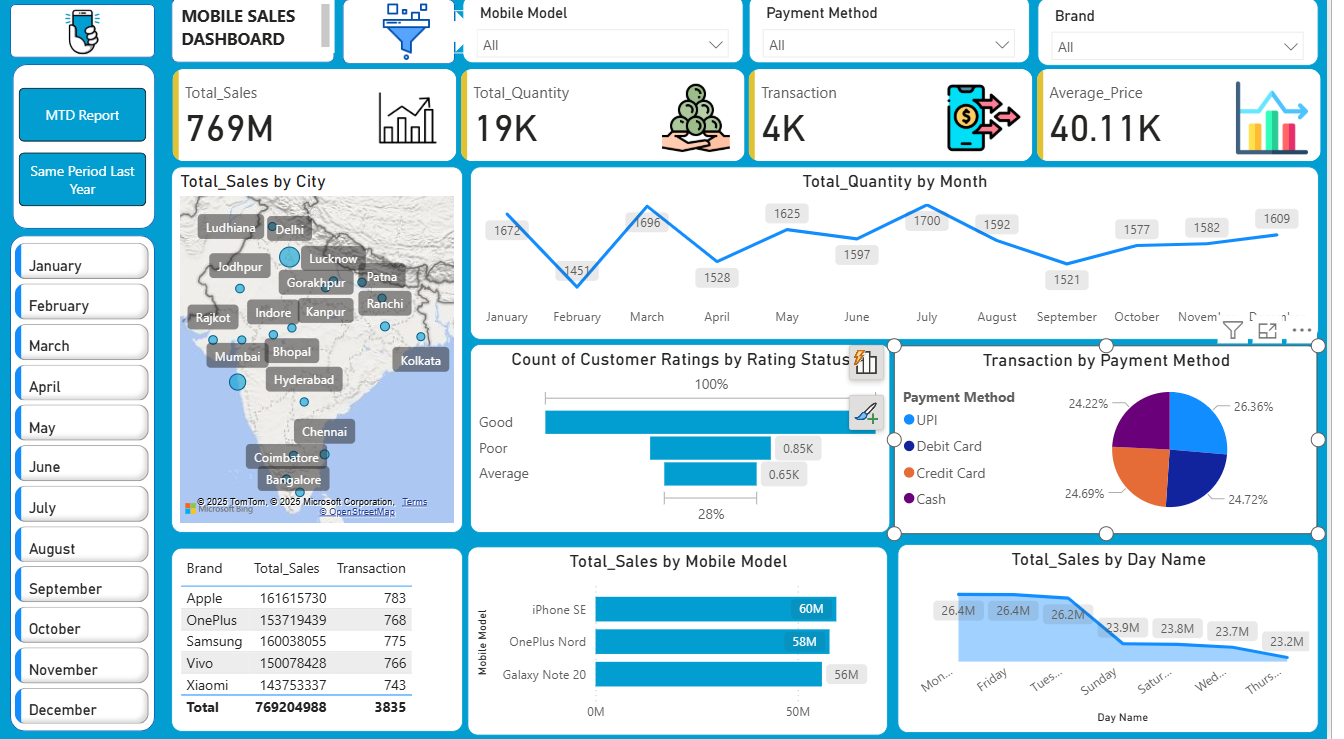

Layout of this report page (visuals, bound fields, positions):
{"tool":"powerbi","page":{"name":"Dashboard","canvas":[1280,720],"ordinal":0},"visuals":[{"type":"shape","box":[10.1,10.1,139.9,51.9],"z":0},{"type":"image","box":[11.3,3.8,137.2,65.4],"z":1000},{"type":"textbox","box":[150,76.8,300,150],"z":2000},{"type":"shape","box":[12.2,67.4,137.8,159.2],"z":3000},{"type":"shape","box":[10.1,232.3,139.9,479],"z":4000},{"type":"advancedSlicerVisual","fields":{"Values":["Custom_Calender.Date.Variation.Date Hierarchy.Month"]},"box":[10.1,235.2,139.9,479],"z":5000},{"type":"cardVisual","fields":{"Data":["Mobile_Sales_Data.Total_Sales","Mobile_Sales_Data.Total_Quantity","Mobile_Sales_Data.Transaction","Mobile_Sales_Data.Average_Price"]},"box":[161.1,67.5,1118.6,99.7],"z":6000},{"type":"slicer","fields":{"Values":["Mobile_Sales_Data.Mobile Model"]},"box":[447,1.5,270.9,65.8],"z":7000},{"type":"slicer","fields":{"Values":["Mobile_Sales_Data.Payment Method"]},"box":[722.5,1.5,270.9,65.8],"z":8000},{"type":"slicer","fields":{"Values":["Mobile_Sales_Data.Brand"]},"box":[1001.1,3.1,270.9,65.8],"z":9000},{"type":"shape","box":[330.6,4.6,108.7,62.8],"z":10000},{"type":"image","box":[338.3,3.1,108.7,65.8],"z":11000},{"type":"shape","box":[416.4,15.3,44.4,41.3],"z":12000},{"type":"shape","box":[165.3,3.1,157.7,62.8],"z":13000},{"type":"textbox","box":[169.9,4.6,153.1,52],"z":14000},{"type":"map","fields":{"Category":["Mobile_Sales_Data.City"],"Size":["Mobile_Sales_Data.Total_Sales"]},"box":[165.3,166.9,281.7,353.6],"z":15000},{"type":"lineChart","fields":{"Y":["Mobile_Sales_Data.Total_Quantity"],"Category":["Custom_Calender.Date.Variation.Date Hierarchy.Month"]},"box":[453.1,166.9,819,166.9],"z":16000},{"type":"funnel","fields":{"Y":["CountNonNull(Mobile_Sales_Data.Customer Ratings)"],"Category":["Mobile_Sales_Data.Rating Status"]},"box":[453.1,338.3,405.7,182.2],"z":17000},{"type":"pieChart","fields":{"Y":["Mobile_Sales_Data.Transaction"],"Category":["Mobile_Sales_Data.Payment Method"]},"box":[862.1,338.6,409,182.5],"z":18000},{"type":"clusteredBarChart","fields":{"Y":["Mobile_Sales_Data.Total_Sales"],"Category":["Mobile_Sales_Data.Mobile Model"]},"box":[451.6,532.7,405.7,182.2],"z":19000},{"type":"areaChart","fields":{"Y":["Mobile_Sales_Data.Total_Sales"],"Category":["Custom_Calender.Day Name"]},"box":[865.9,531.1,406.5,182.5],"z":20000},{"type":"tableEx","fields":{"Values":["Mobile_Sales_Data.Brand","Mobile_Sales_Data.Total_Sales","Mobile_Sales_Data.Transaction"]},"box":[165.3,534.2,281.7,177.6],"z":21000},{"type":"pageNavigator","box":[18.4,90.3,124,114.8],"z":21001}]}

Visuals, with their boxes in screenshot pixels (x1, y1, x2, y2), scaled from the page's 1280x720 canvas onto the 1344x739 screenshot:
shape: 11,10,158,64
image: 12,4,156,71
textbox: 158,79,472,233
shape: 13,69,158,233
shape: 11,238,158,730
advancedSlicerVisual - Custom_Calender.Date.Variation.Date Hierarchy.Month: 11,241,158,733
cardVisual - Mobile_Sales_Data.Total_Sales x Mobile_Sales_Data.Total_Quantity: 169,69,1343,172
slicer - Mobile_Sales_Data.Mobile Model: 469,2,754,69
slicer - Mobile_Sales_Data.Payment Method: 759,2,1043,69
slicer - Mobile_Sales_Data.Brand: 1051,3,1336,71
shape: 347,5,461,69
image: 355,3,469,71
shape: 437,16,484,58
shape: 174,3,339,68
textbox: 178,5,339,58
map - Mobile_Sales_Data.City x Mobile_Sales_Data.Total_Sales: 174,171,469,534
lineChart - Mobile_Sales_Data.Total_Quantity x Custom_Calender.Date.Variation.Date Hierarchy.Month: 476,171,1336,343
funnel - CountNonNull(Mobile_Sales_Data.Customer Ratings) x Mobile_Sales_Data.Rating Status: 476,347,902,534
pieChart - Mobile_Sales_Data.Transaction x Mobile_Sales_Data.Payment Method: 905,348,1335,535
clusteredBarChart - Mobile_Sales_Data.Total_Sales x Mobile_Sales_Data.Mobile Model: 474,547,900,734
areaChart - Mobile_Sales_Data.Total_Sales x Custom_Calender.Day Name: 909,545,1336,732
tableEx - Mobile_Sales_Data.Brand x Mobile_Sales_Data.Total_Sales: 174,548,469,731
pageNavigator: 19,93,150,211
